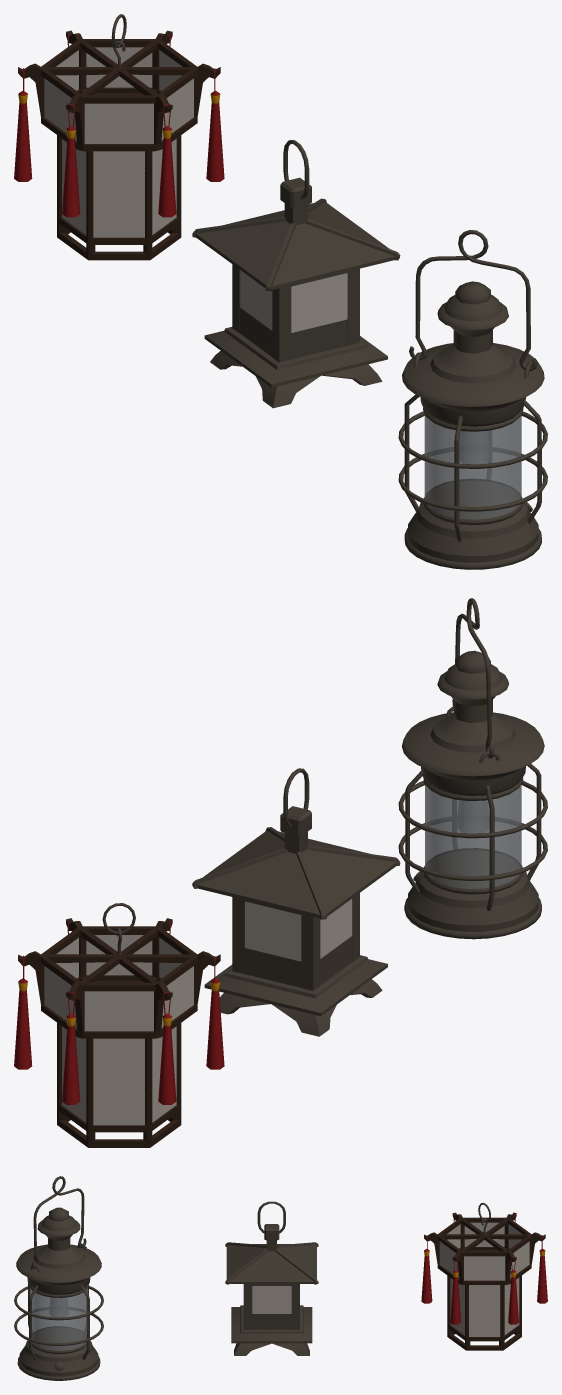
Rendered from Lanterns lowpoly.fbx.
3 renders of one model, top to bottom at view 1: azimuth 30°, elevation 25°; view 2: azimuth 150°, elevation 25°; view 3: azimuth 270°, elevation 25°, orthographic. The views are drawn at different scales.
Parts seen in each view (by area): view 1: JapaneseLantern, EuropeanLantern, ChineseLantern; view 2: JapaneseLantern, EuropeanLantern, ChineseLantern; view 3: JapaneseLantern, EuropeanLantern, ChineseLantern.
Boxes of the visible parts, x1,y1,x2,y2 form: JapaneseLantern: (14, 14, 224, 260); EuropeanLantern: (398, 230, 547, 569); ChineseLantern: (192, 140, 400, 408); JapaneseLantern: (14, 903, 224, 1147); EuropeanLantern: (398, 598, 547, 939); ChineseLantern: (192, 768, 400, 1036); JapaneseLantern: (421, 1202, 547, 1350); EuropeanLantern: (14, 1176, 103, 1380); ChineseLantern: (225, 1201, 318, 1355).
Size of the model in its own units: 3.09 by 5.84 by 15.05.
